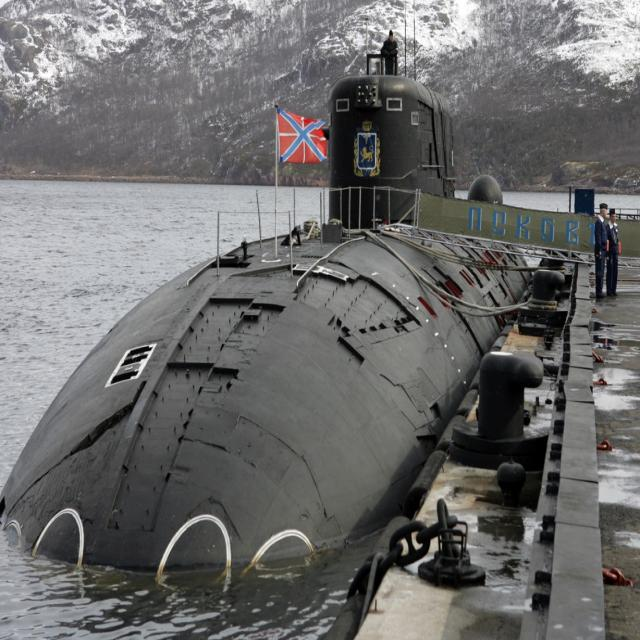submarine: (1, 14, 549, 586)
